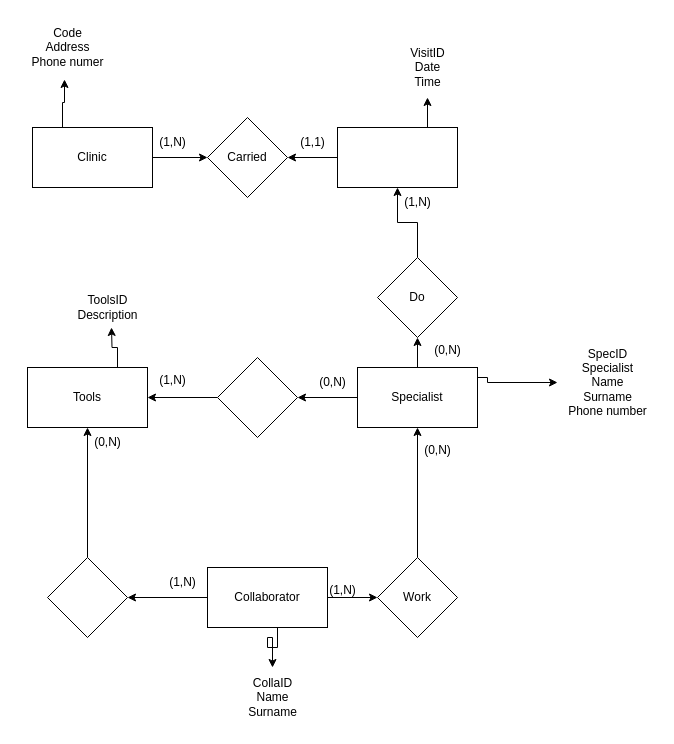
This 674x744 diagram has some shape labels left out. The shapes that lost their labels are listed below. From the top down, each one's box as (x1, y1, x2, y2) in pixels, then its label:
(336, 126, 458, 188): Visit
(216, 356, 298, 438): Use
(46, 556, 128, 638): Responsible
